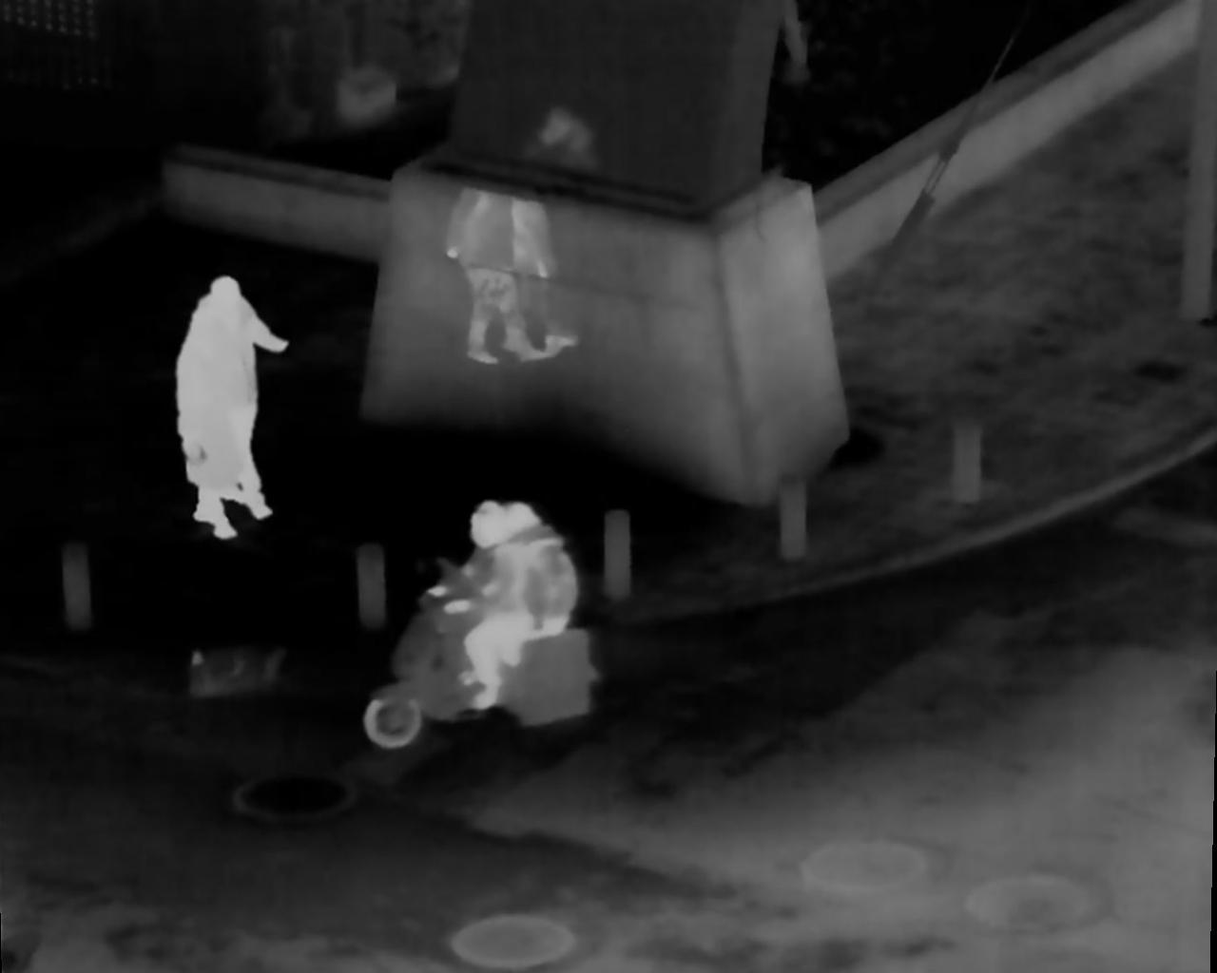person: (194, 273, 272, 516), (183, 297, 258, 523), (449, 504, 534, 700), (502, 495, 570, 644)
